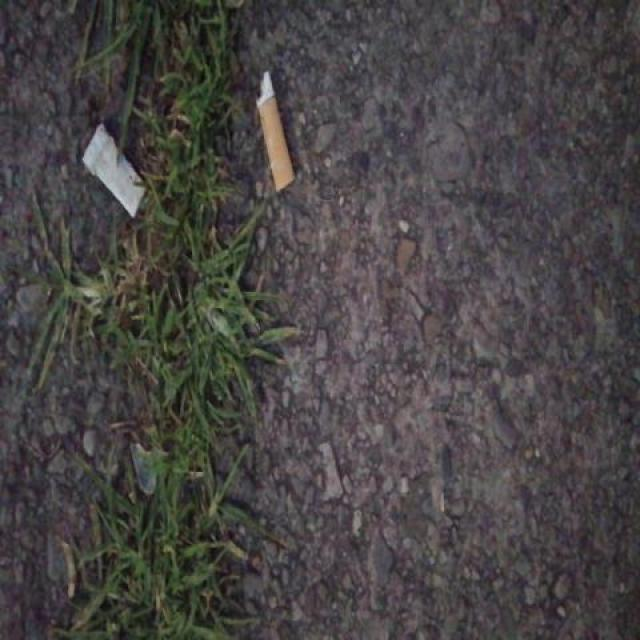non-organic waste: (78, 120, 154, 223), (250, 66, 298, 197)
